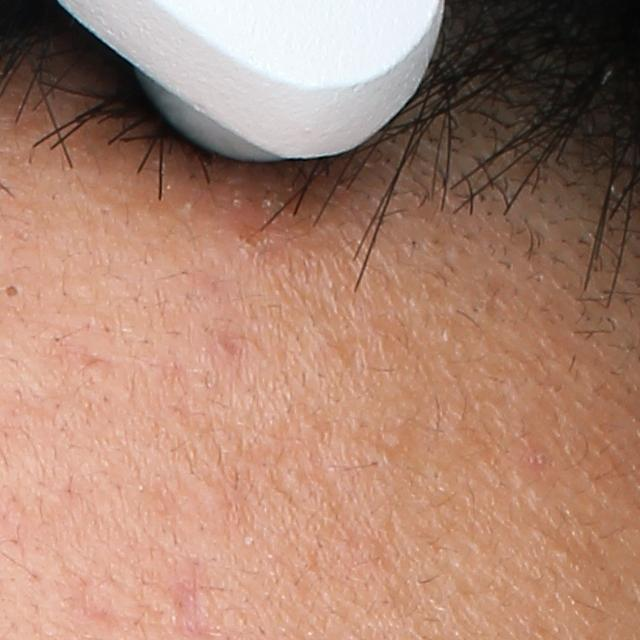comedo: (2, 283, 22, 300)
